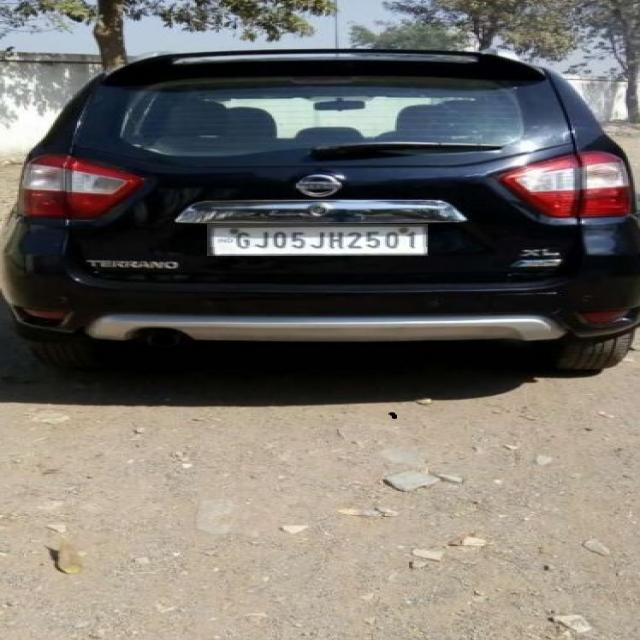Plate: (208, 225, 429, 257)
